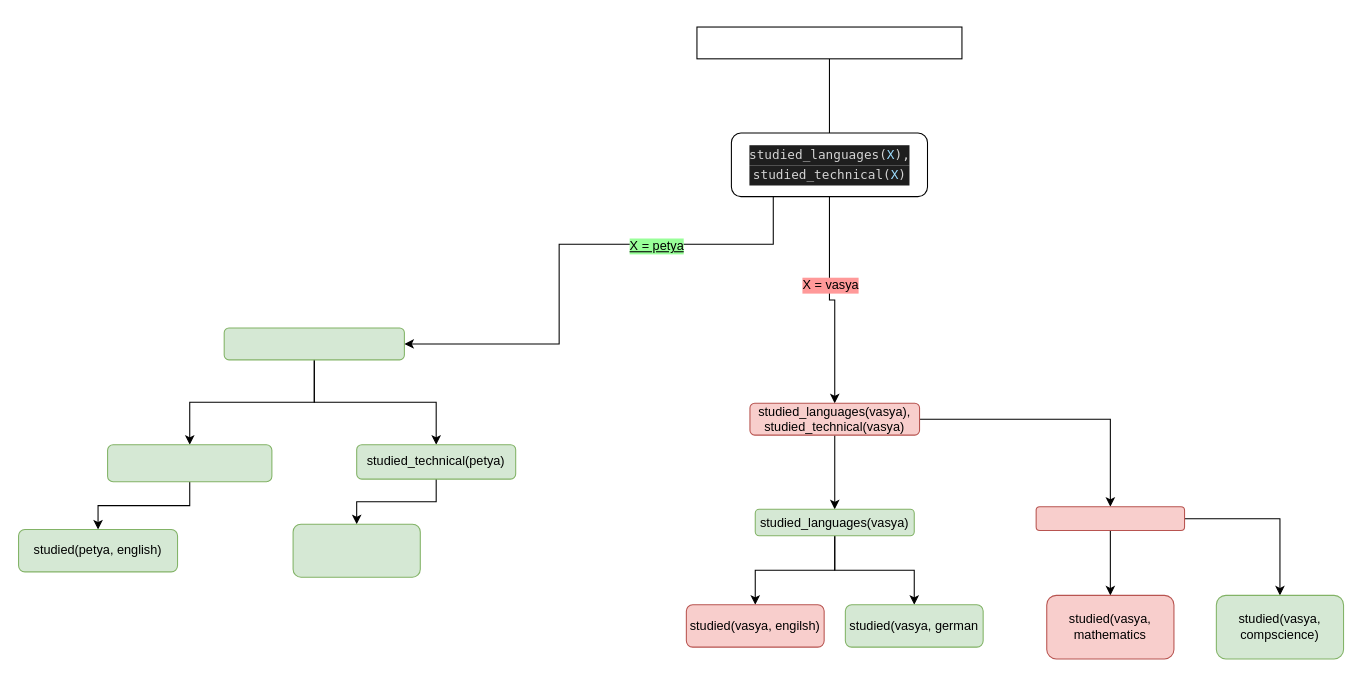
This 1362x678 diagram has some shape labels left out. The centre of each missing label's shape, as x and y in pixels:
speciality(X,tech_translator): pixel 829 42
studied(petya, mathematics): pixel 356 550
studied_languages(petya): pixel 189 463
studied_languages(petya), studied_technical(petya): pixel 313 343
studied_technical(vasya): pixel 1110 518
